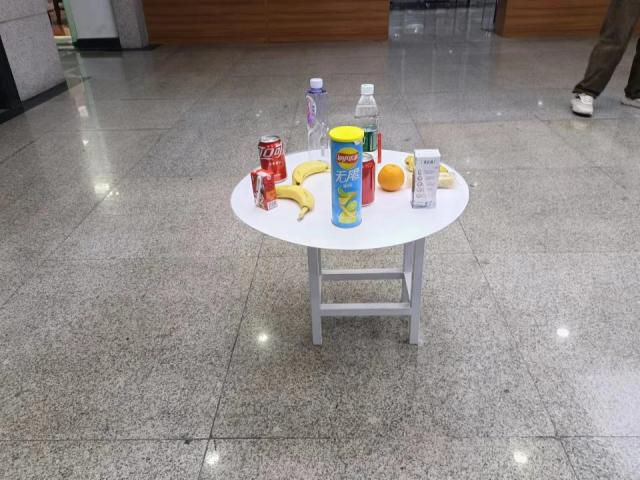Canned_drinks: (257, 134, 288, 183), (354, 153, 376, 206)
bottle: (304, 77, 331, 167), (354, 82, 379, 172)
cylinder: (327, 125, 365, 229)
drink_box: (411, 148, 439, 209), (250, 167, 278, 211)
